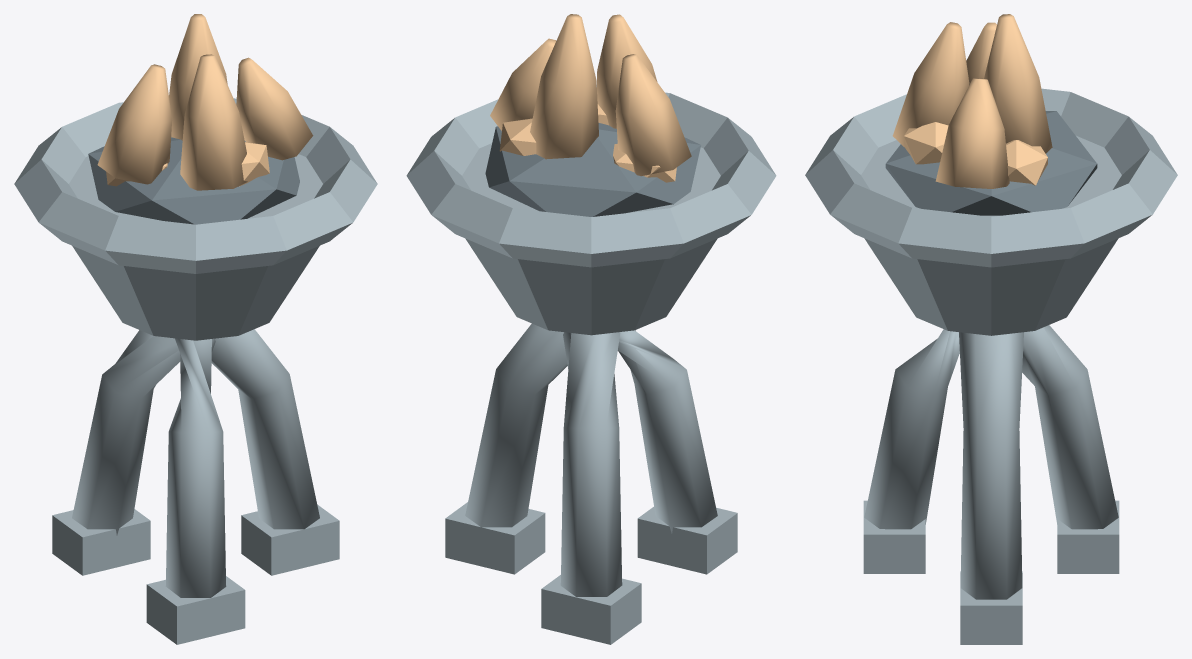
Rendered from world_dungeon_brazier.fbx.
The picture shows the model from 3 angles, left to right: view 1: azimuth 30°, elevation 25°; view 2: azimuth 150°, elevation 25°; view 3: azimuth 270°, elevation 25°; orthographic projection. The views are drawn at different scales.
Parts seen in each view (by area): view 1: world_dungeon_brazier_mesh; view 2: world_dungeon_brazier_mesh; view 3: world_dungeon_brazier_mesh.
Part boxes in pixels (x1=…): world_dungeon_brazier_mesh: x1=14, y1=14, x2=377, y2=644; world_dungeon_brazier_mesh: x1=406, y1=14, x2=776, y2=644; world_dungeon_brazier_mesh: x1=805, y1=14, x2=1177, y2=644.
Size of the model in its own units: 0.6 by 1.01 by 0.6.
